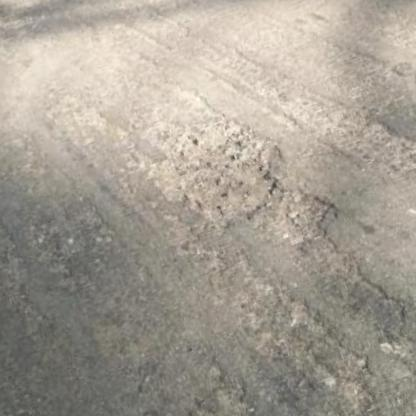pothole: (133, 104, 295, 244), (267, 181, 342, 248)
